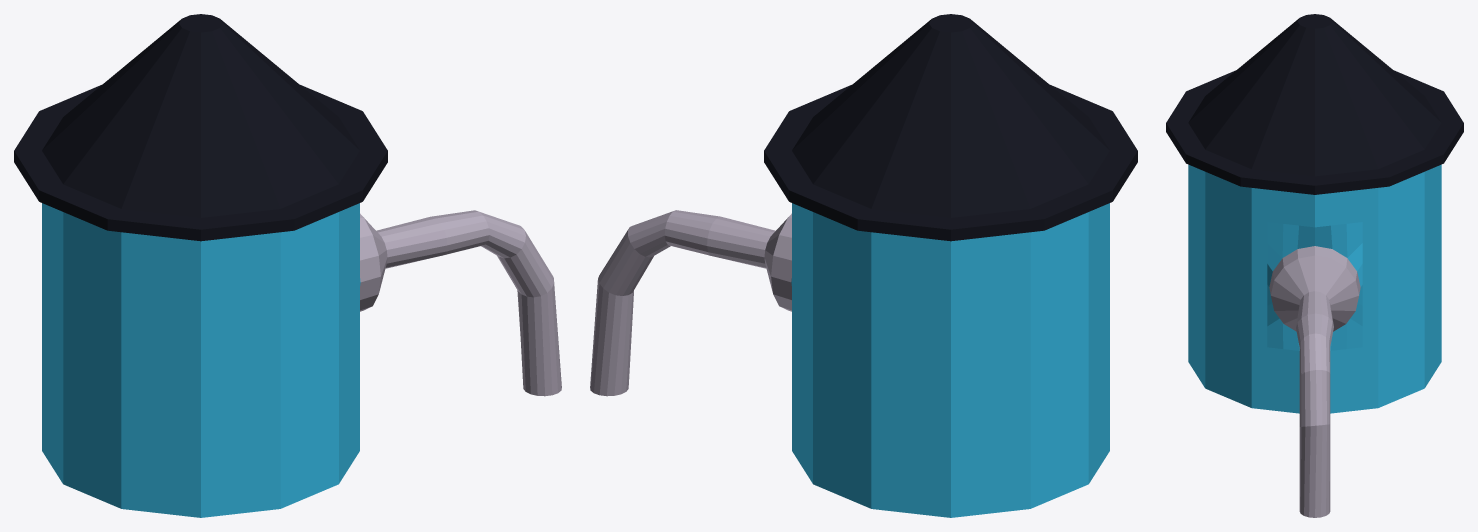
File: maquina de agua.fbx
3 renders of one model, left to right at view 1: azimuth 30°, elevation 25°; view 2: azimuth 150°, elevation 25°; view 3: azimuth 270°, elevation 25°, orthographic. The views are drawn at different scales.
Visible parts, largest first — view 1: Cylinder; view 2: Cylinder; view 3: Cylinder.
Part boxes in pixels (box(x1,y1,x2,y2)): Cylinder: box(14, 14, 561, 517); Cylinder: box(590, 14, 1137, 517); Cylinder: box(1166, 14, 1463, 517).
Size of the model in its own units: 378 by 313 by 235.
